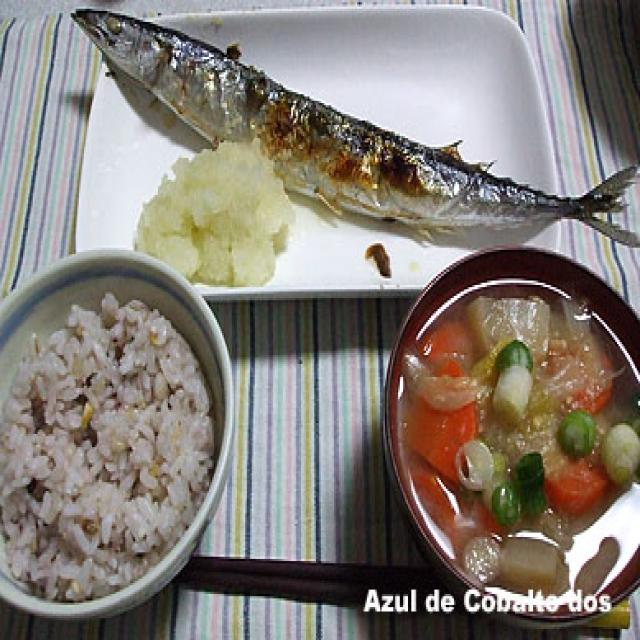汤锅炖物: (349, 237, 640, 622)
熟制海鲜: (82, 24, 563, 318)
米饭主食: (0, 226, 245, 616)
